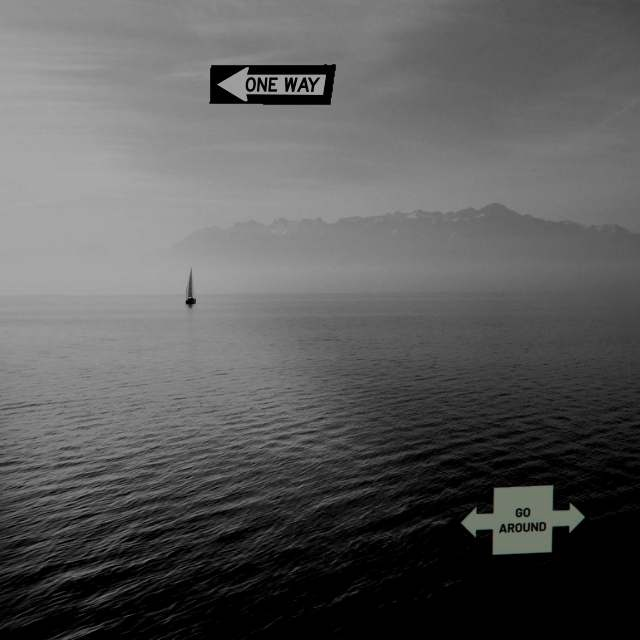GO_AROUND: (459, 484, 586, 556)
ONE_WAY_ left: (209, 64, 336, 105)
